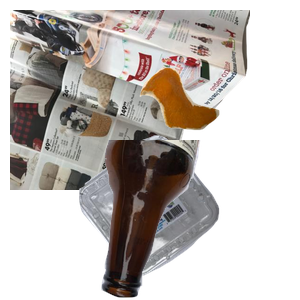glass: (99, 140, 300, 300)
paper: (10, 10, 250, 190)
plastic: (77, 133, 289, 300)
trash: (137, 65, 300, 188)
